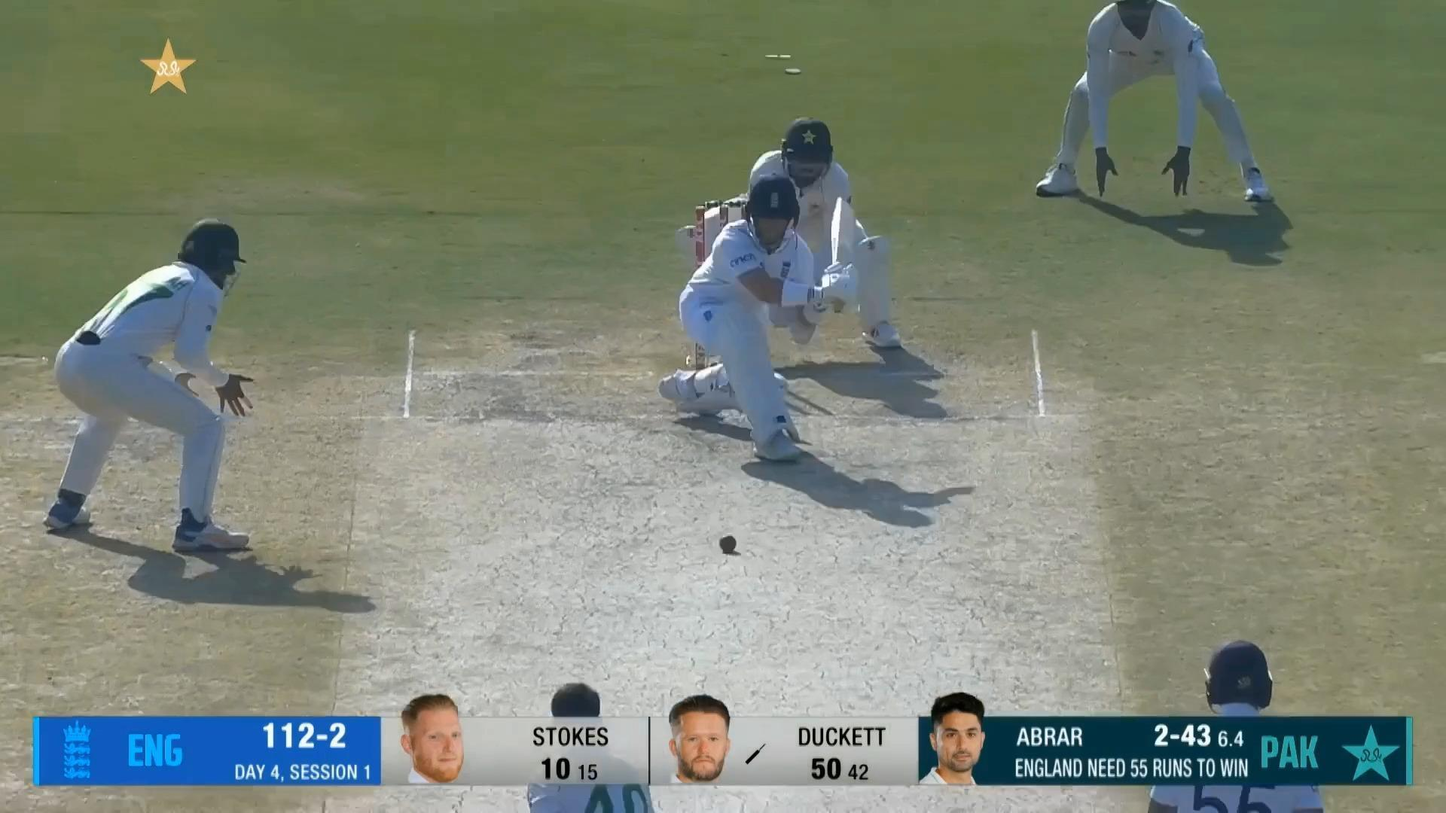BM 1: (658, 172, 862, 463)
BO: (526, 681, 657, 813)
